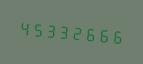five: (30, 16, 42, 41)
four: (17, 15, 29, 40)
six: (95, 22, 107, 47), (108, 23, 120, 48), (82, 21, 94, 45)
three: (43, 17, 55, 42), (56, 18, 68, 43)
two: (69, 19, 81, 44)
